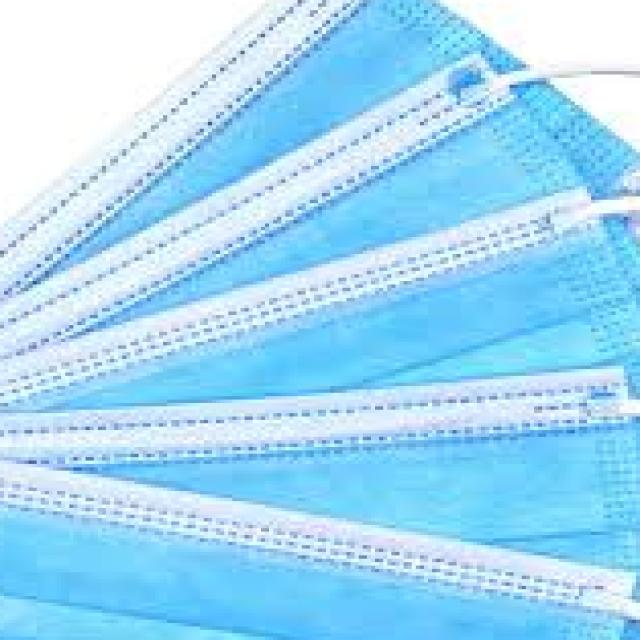organic: (13, 6, 623, 606)
